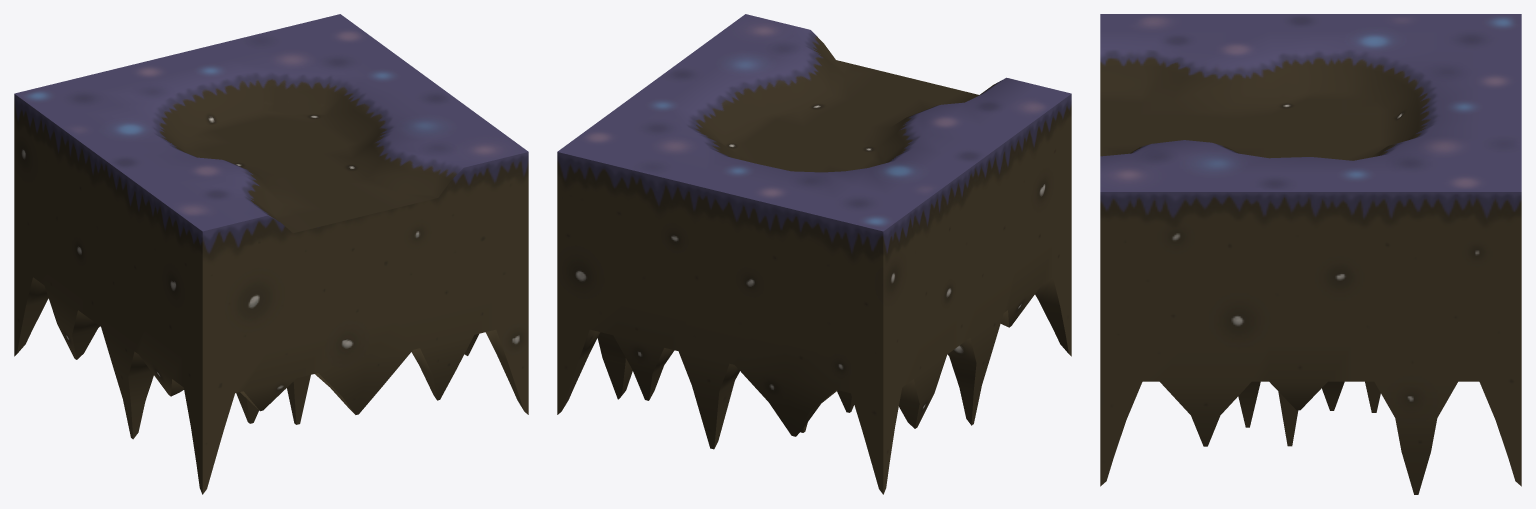
File: Island_EndLake_SEV_001.FBX
The picture shows the model from 3 angles, left to right: view 1: azimuth 30°, elevation 25°; view 2: azimuth 150°, elevation 25°; view 3: azimuth 270°, elevation 25°; orthographic projection. The views are drawn at different scales.
Visible parts, largest first — view 1: EndLake; view 2: EndLake; view 3: EndLake.
Part boxes in pixels (x1,y1,x2,y2): EndLake: (14, 14, 528, 494); EndLake: (557, 14, 1071, 494); EndLake: (1100, 14, 1521, 494).
Size of the model in its own units: 10 by 8.73 by 10.
